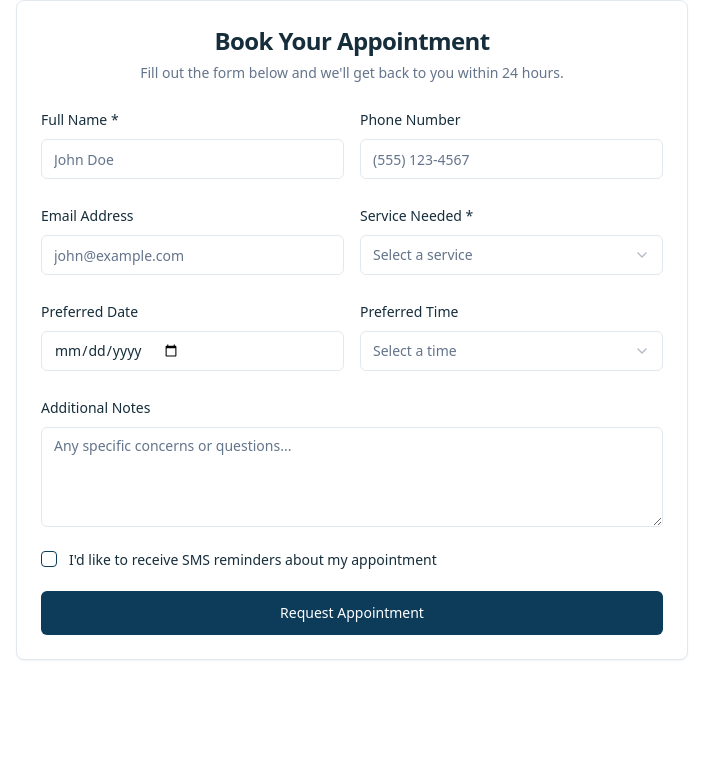
Scenario: IntakeForm Component › Form Validation › should validate required fields
Click the button "Request Appointment" at (352, 613), box [41,591,663,635]
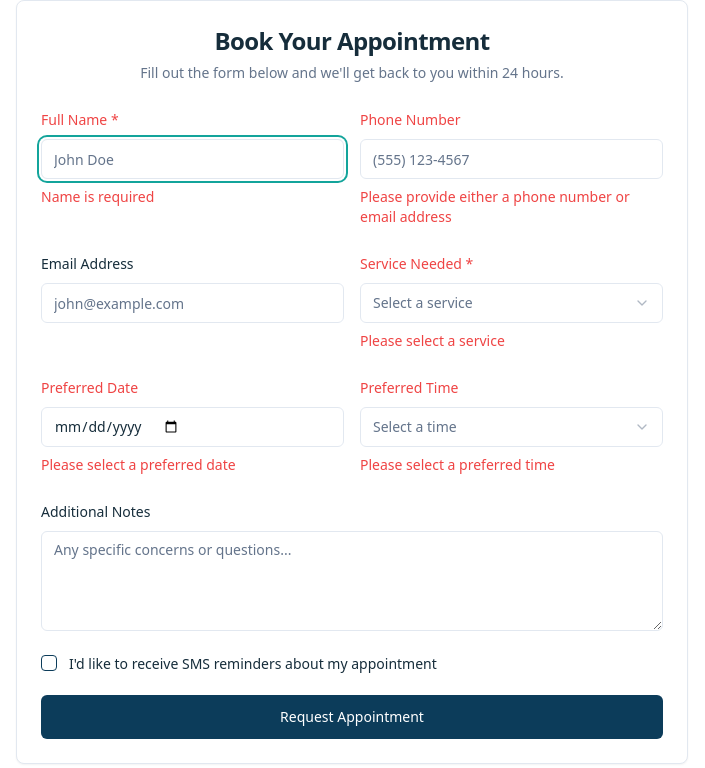
Check: the text "Name is required" is shown, box [41,187,154,206]
Check: the text "Please select a service" is shown, box [360,331,505,350]
Check: the text "Please select a preferred date" is shown, box [41,455,236,474]
